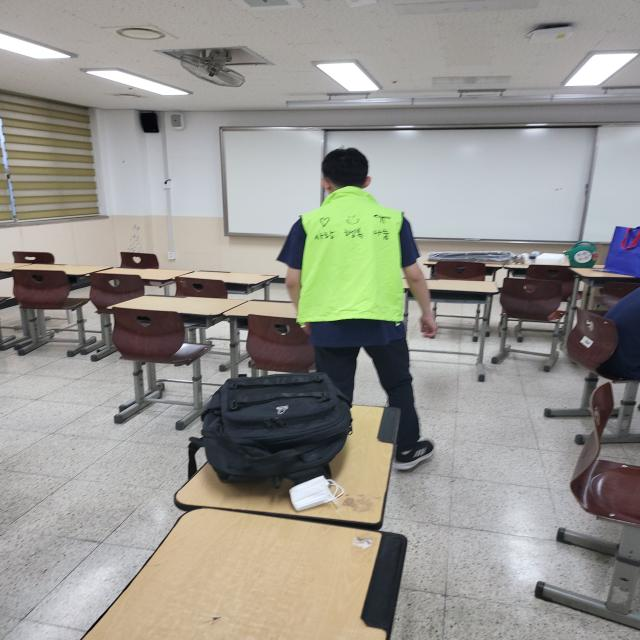weston_spy: (294, 192, 416, 340)
